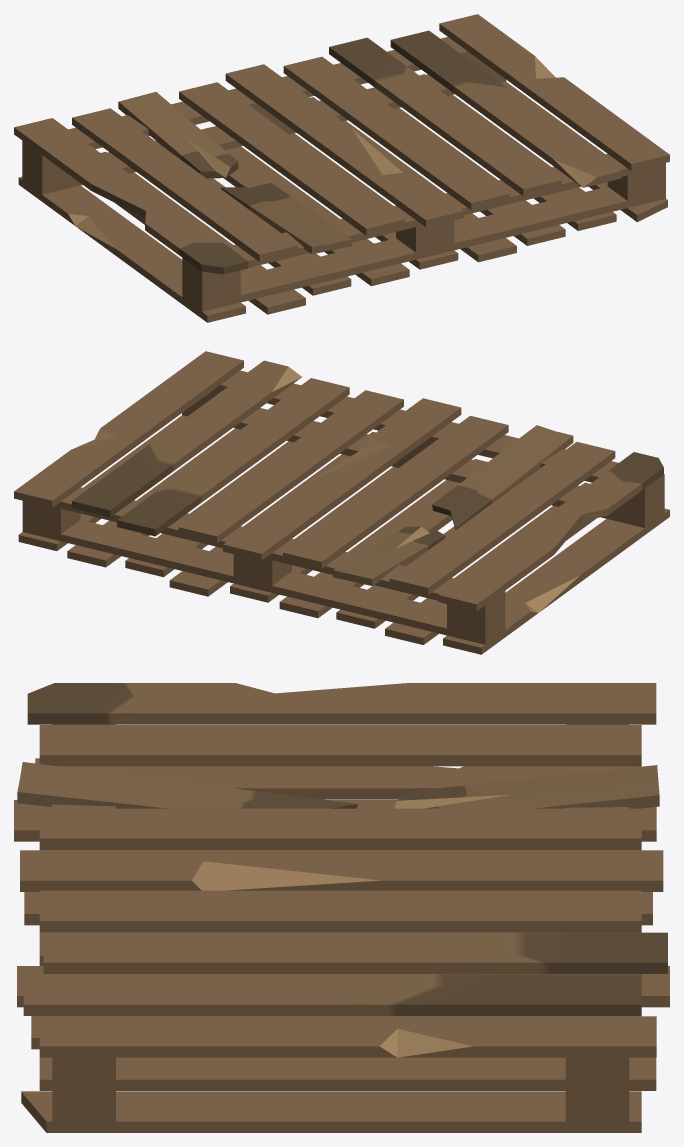
The model's file is SM_Wooden_Pallet_B.fbx.
The picture shows the model from 3 angles, top to bottom: view 1: azimuth 30°, elevation 25°; view 2: azimuth 150°, elevation 25°; view 3: azimuth 270°, elevation 25°; orthographic projection. The views are drawn at different scales.
Visible parts, largest first — view 1: SM_Wooden_Pallet_B; view 2: SM_Wooden_Pallet_B; view 3: SM_Wooden_Pallet_B.
Boxes of the visible parts, <box> form: SM_Wooden_Pallet_B: <box>14,14,669,322</box>; SM_Wooden_Pallet_B: <box>14,351,669,654</box>; SM_Wooden_Pallet_B: <box>14,683,669,1132</box>.
Size of the model in its own units: 206 by 22.84 by 157.
